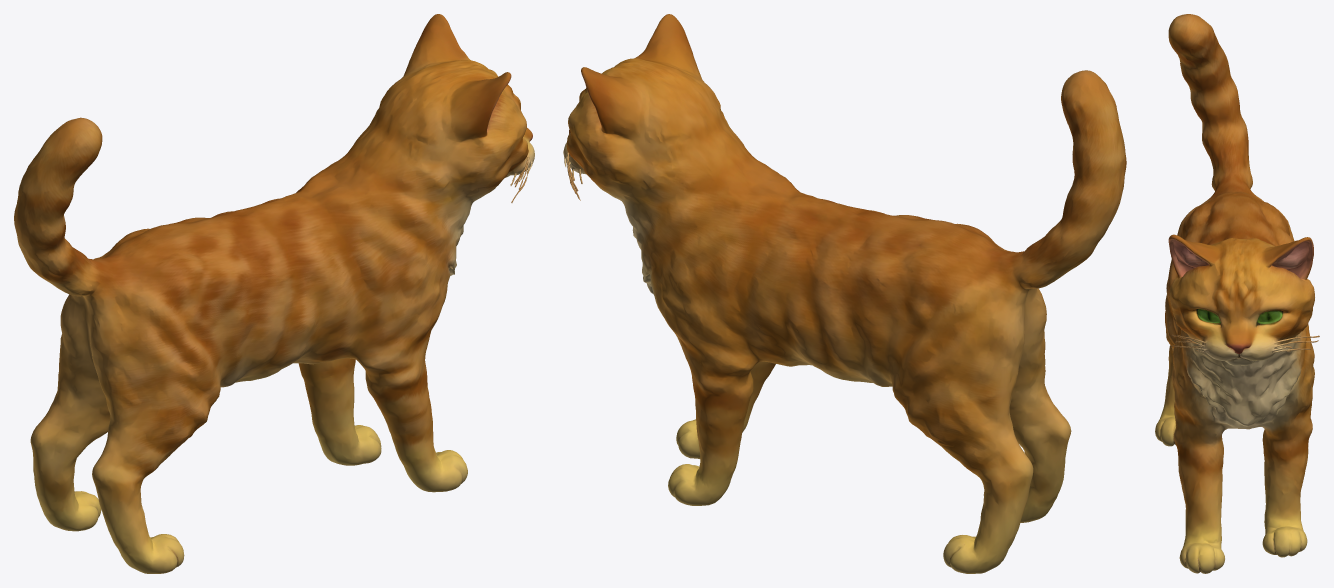
3 renders of one model, left to right at view 1: azimuth 30°, elevation 25°; view 2: azimuth 150°, elevation 25°; view 3: azimuth 270°, elevation 25°, orthographic. The views are drawn at different scales.
Parts seen in each view (by area): view 1: tripo_node_fa611bf6-75f5-4cfd-b34d-b0589848c5e8; view 2: tripo_node_fa611bf6-75f5-4cfd-b34d-b0589848c5e8; view 3: tripo_node_fa611bf6-75f5-4cfd-b34d-b0589848c5e8.
Boxes of the visible parts, x1,y1,x2,y2 form: tripo_node_fa611bf6-75f5-4cfd-b34d-b0589848c5e8: (14,14,534,573); tripo_node_fa611bf6-75f5-4cfd-b34d-b0589848c5e8: (563,14,1126,573); tripo_node_fa611bf6-75f5-4cfd-b34d-b0589848c5e8: (1155,14,1319,573).
Size of the model in its own units: 1 by 0.8359 by 0.3137.
Materials: 1 (1 with a texture image).
